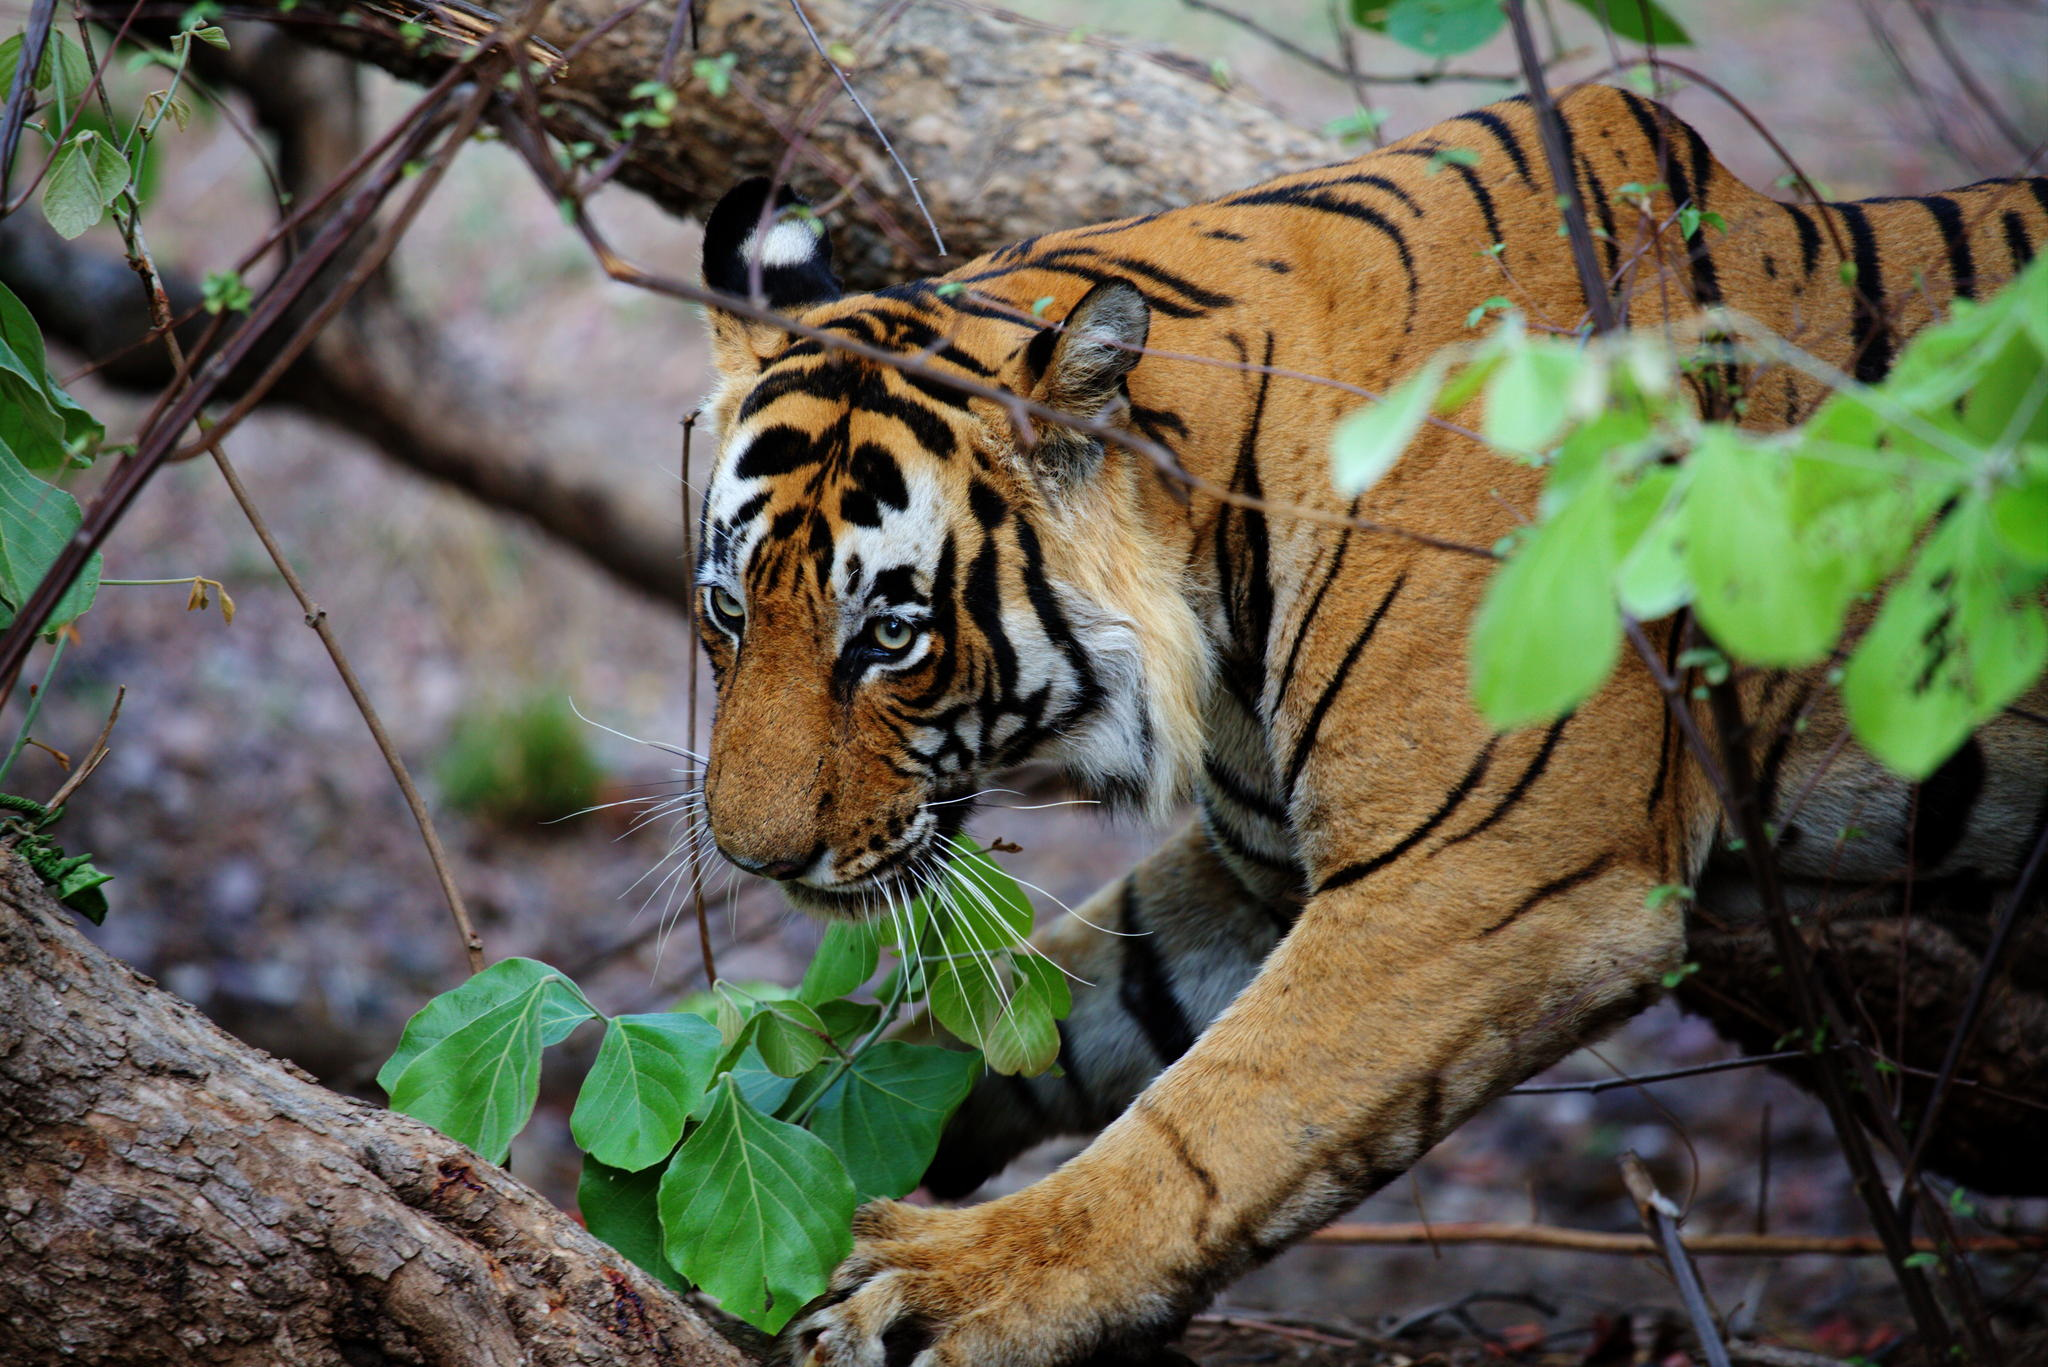tiger: (666, 211, 1917, 1179)
